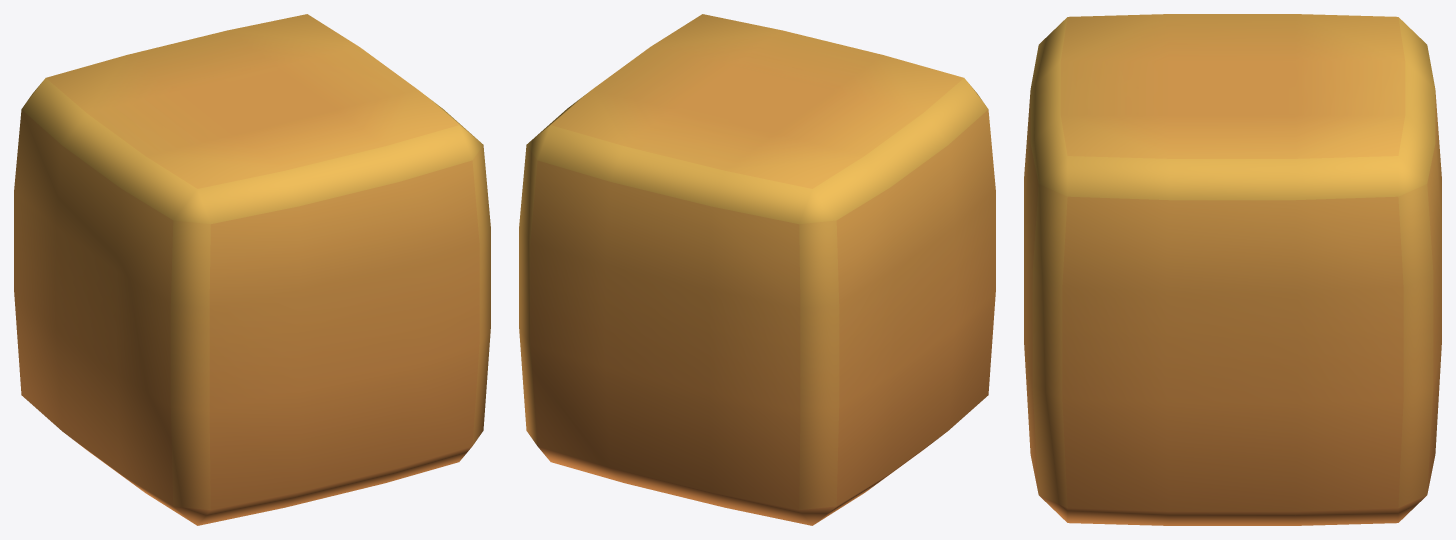
Rendered from cube_04_alt.fbx.
3 views of the same model, side by side, from view 1: azimuth 30°, elevation 25°; view 2: azimuth 150°, elevation 25°; view 3: azimuth 270°, elevation 25° (orthographic). The views are drawn at different scales.
Visible parts, largest first — view 1: cube_04_alt; view 2: cube_04_alt; view 3: cube_04_alt.
Boxes of the visible parts, box(x1,y1,x2,y2) form: cube_04_alt: box(14, 14, 490, 525); cube_04_alt: box(519, 14, 995, 525); cube_04_alt: box(1024, 14, 1441, 525).
Bounding box in the file's own units: 112 × 108 × 112.
